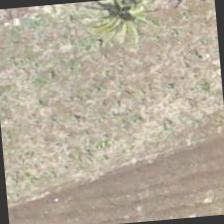Kelapa_Sawit: (75, 0, 170, 52)
